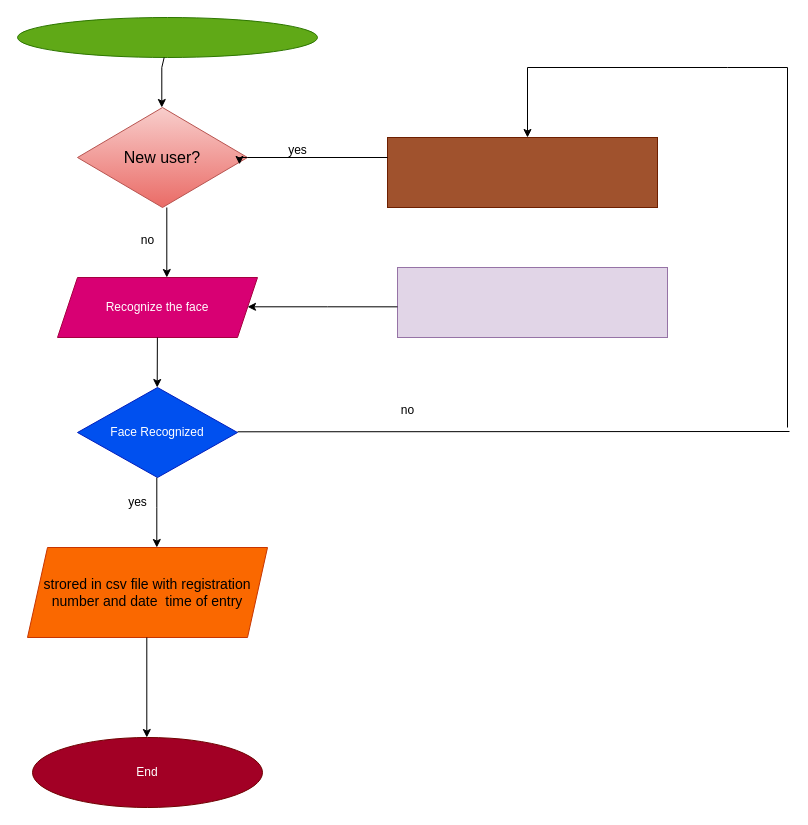
This 808x825 diagram has some shape labels left out. The shapes that lost their labels are listed below. From the top down, each one's centre as x and y in pixels, then its label:
At point 167,37: "Start".
At point 522,172: "give your photograph".
At point 532,302: "store the face data in folder on your name".
